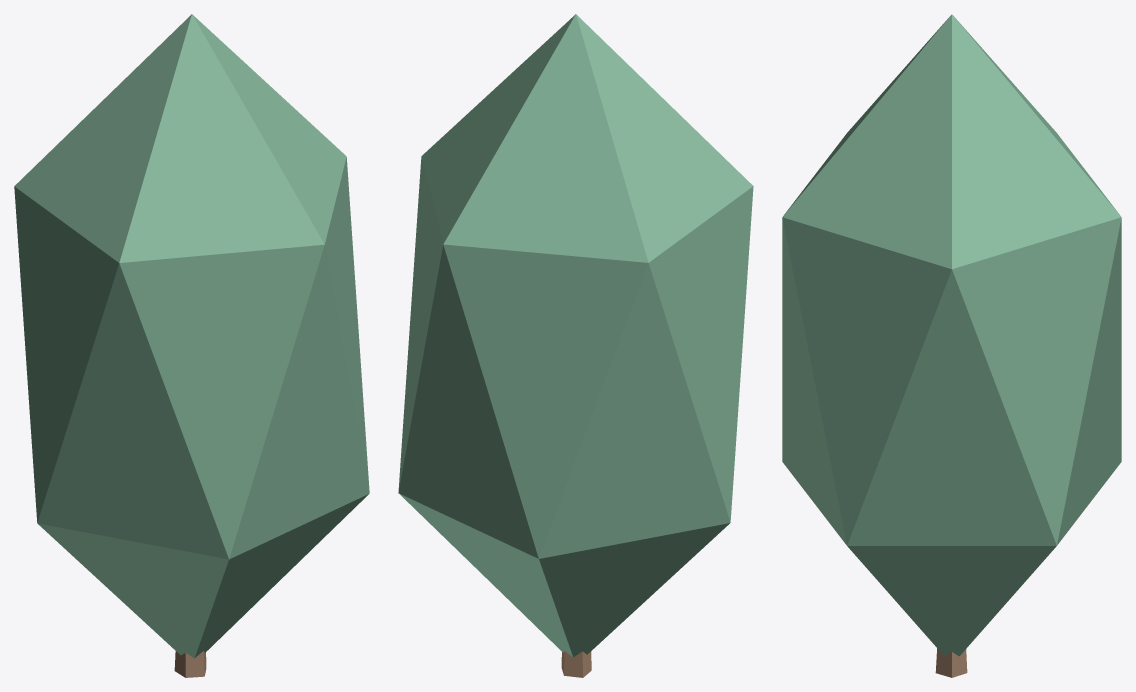
File: 06_Thuya.glb
The picture shows the model from 3 angles, left to right: view 1: azimuth 30°, elevation 25°; view 2: azimuth 150°, elevation 25°; view 3: azimuth 270°, elevation 25°; orthographic projection.
Visible parts, largest first — view 1: Thuya_Foliage, Thuya_Trunk; view 2: Thuya_Foliage, Thuya_Trunk; view 3: Thuya_Foliage, Thuya_Trunk.
Part boxes in pixels (x1=…): Thuya_Foliage: x1=14, y1=14, x2=369, y2=658; Thuya_Trunk: x1=174, y1=651, x2=206, y2=677; Thuya_Foliage: x1=398, y1=14, x2=753, y2=657; Thuya_Trunk: x1=561, y1=651, x2=591, y2=677; Thuya_Foliage: x1=782, y1=14, x2=1121, y2=656; Thuya_Trunk: x1=935, y1=648, x2=967, y2=677.
Size of the model in its own units: 1.07 by 2.18 by 1.02.
